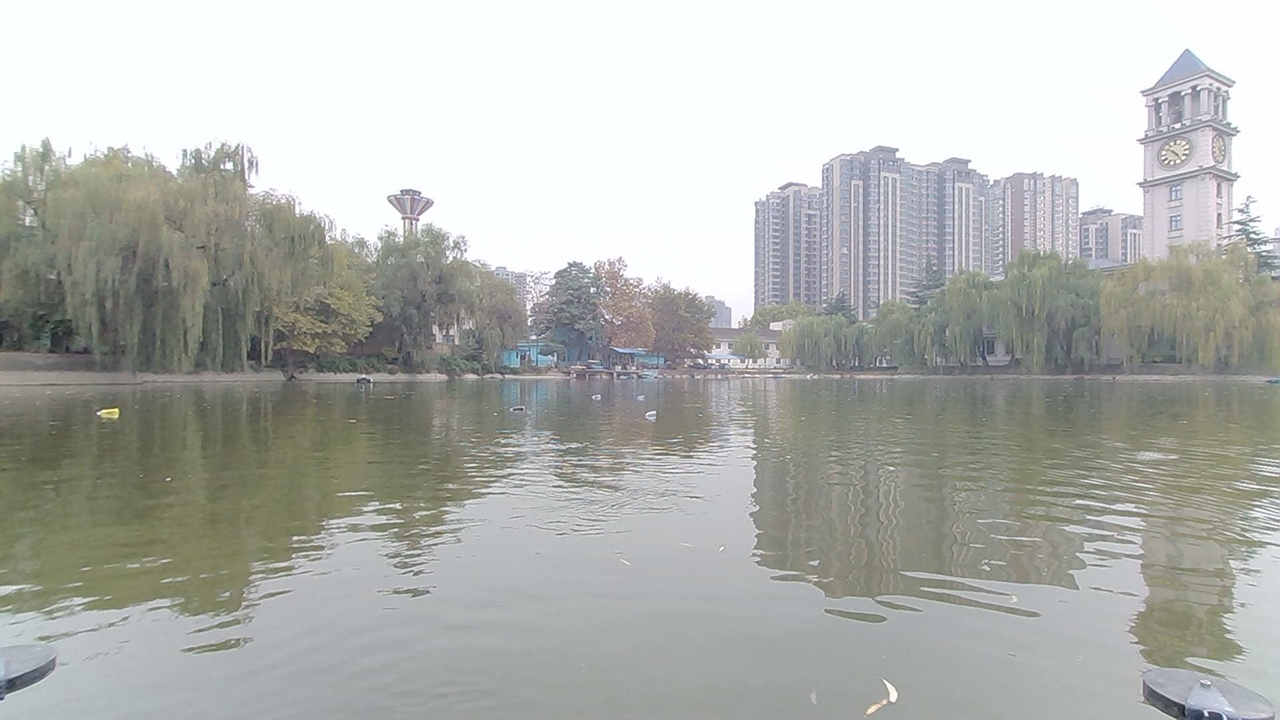bottle: (91, 403, 133, 427), (502, 397, 532, 419), (648, 408, 678, 429), (628, 388, 661, 405), (588, 388, 610, 407)
